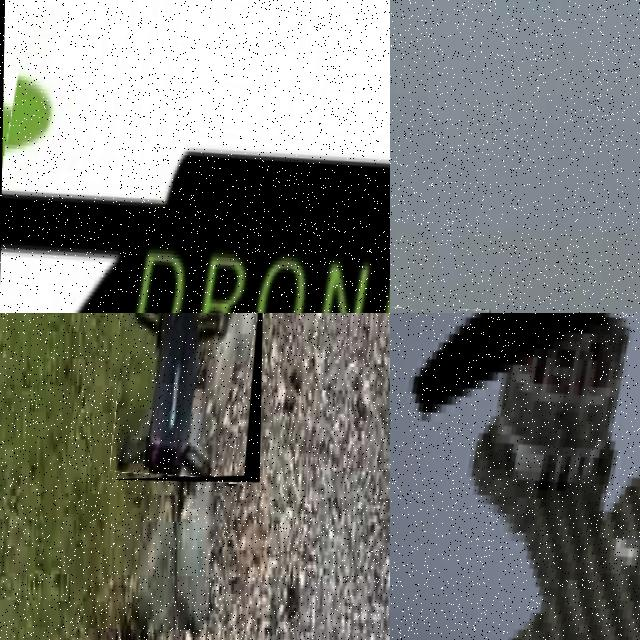0: (114, 313, 263, 481)
drone: (0, 0, 390, 313), (390, 313, 640, 640)
